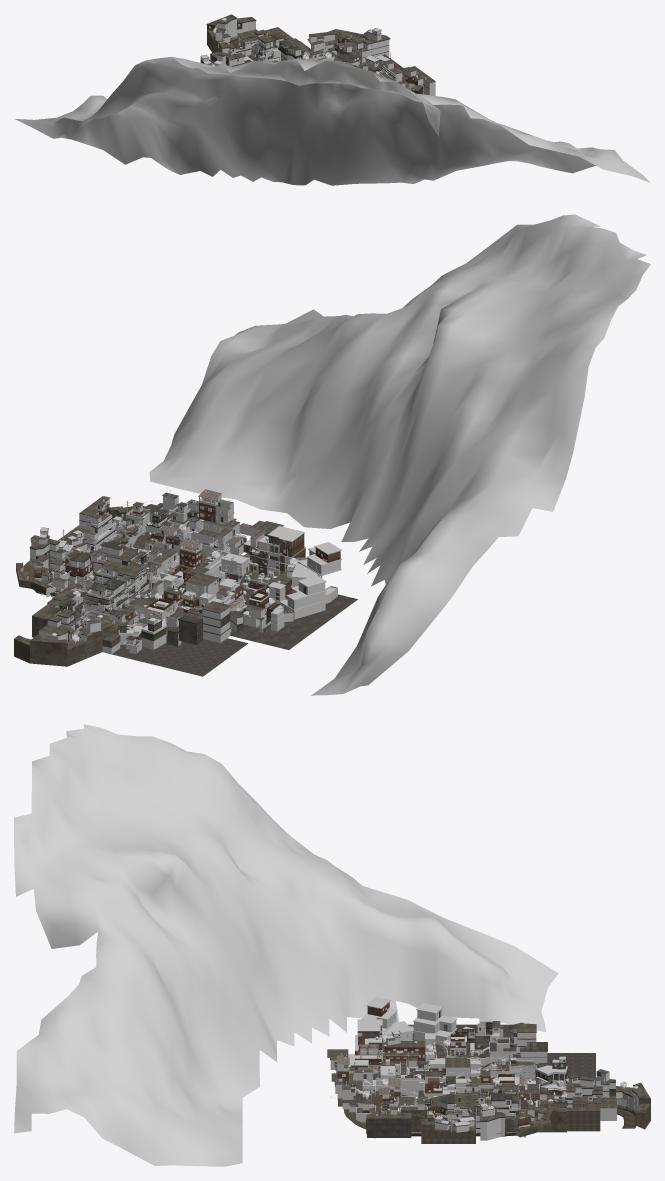
File: SafeHouse_World.obj
3 views of the same model, one above another, from view 1: azimuth 30°, elevation 25°; view 2: azimuth 150°, elevation 25°; view 3: azimuth 270°, elevation 25° (orthographic). The views are drawn at different scales.
Parts seen in each view (by area): view 1: Safe_bottom, Safe_World, Safe_OBJ, Safe_Alpha; view 2: Safe_bottom, Safe_World, Safe_OBJ, Safe_Alpha; view 3: Safe_bottom, Safe_World, Safe_OBJ, Safe_Alpha.
Boxes of the visible parts, x1,y1,x2,y2 form: Safe_bottom: [14, 14, 650, 185]; Safe_World: [200, 19, 435, 95]; Safe_OBJ: [209, 18, 434, 89]; Safe_Alpha: [213, 28, 381, 74]; Safe_bottom: [14, 214, 650, 695]; Safe_World: [20, 494, 341, 654]; Safe_OBJ: [21, 489, 322, 647]; Safe_Alpha: [43, 512, 298, 641]; Safe_bottom: [14, 724, 650, 1166]; Safe_World: [327, 997, 638, 1140]; Safe_OBJ: [334, 1007, 638, 1137]; Safe_Alpha: [362, 1033, 627, 1125].
Size of the model in its own units: 236 by 134 by 287.
